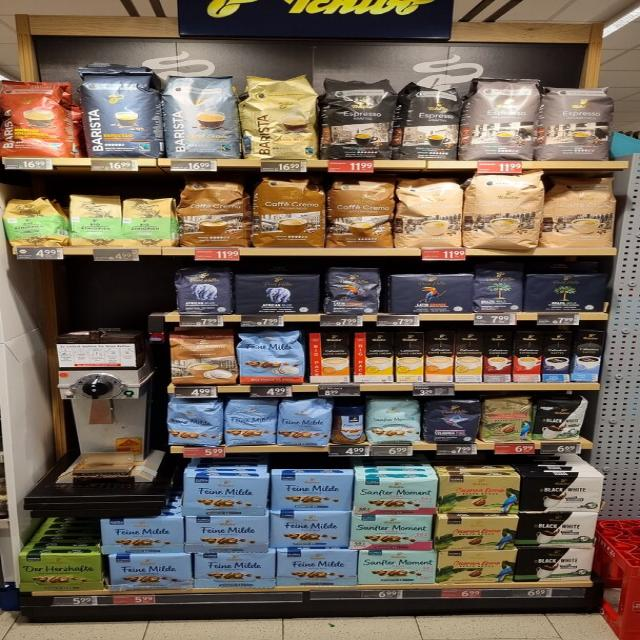AB Bohne: (176, 268, 232, 315)
AB Gemahlen: (234, 273, 322, 314)
Athiopien Bohne: (4, 198, 62, 246)
Athiopien Gemahlen: (70, 194, 122, 247), (123, 196, 174, 248)
BM Bohne: (475, 266, 524, 313)
BM Gemahlen: (527, 272, 607, 312)
BW Bohne: (536, 396, 588, 441)
BW Gemahlen: (522, 474, 604, 512), (518, 512, 598, 547), (519, 547, 593, 581)
Barista CC: (165, 72, 240, 158), (243, 74, 318, 160)
Barista Espresso: (77, 69, 163, 157)
Barista Kolumbien: (0, 78, 79, 158)
C Fino Bohne: (426, 398, 479, 442)
CC Mild: (466, 172, 546, 250), (544, 177, 618, 248), (394, 177, 463, 249)
CC Vollmundig: (169, 331, 238, 386)
CC Vollmundig 36 Pads: (252, 176, 324, 248), (176, 179, 248, 248), (327, 179, 392, 247)
Colombia BB Bohne: (438, 474, 520, 515), (437, 516, 519, 550), (436, 550, 517, 582), (484, 396, 534, 442)
Espresso Aromatisch: (544, 83, 616, 162)
Espresso Kraftig: (319, 75, 396, 161), (401, 79, 461, 160)
Espresso M Art: (464, 75, 540, 160)
FM 36 Pads: (234, 332, 307, 384)
FM Bohne: (278, 397, 330, 447), (165, 401, 222, 446), (225, 397, 276, 447)
FM Gemahlen: (182, 474, 270, 516), (272, 473, 354, 511), (110, 554, 194, 591), (185, 516, 269, 552), (195, 552, 276, 589), (278, 549, 358, 586), (270, 511, 350, 548), (100, 518, 183, 553)
FM Instant: (332, 404, 368, 445)
Herzhatfe Mundig: (16, 554, 104, 592)
LG Bohne: (327, 266, 381, 314)
LG Gemahlen: (390, 273, 473, 315)
SM Gemahlen: (350, 513, 432, 550), (357, 477, 438, 514), (361, 550, 437, 582), (368, 398, 421, 443)
Simo CCMild: (356, 332, 394, 382)
Simo CCMild bigpack: (394, 332, 424, 382)
Simo CCVollmundig: (309, 332, 350, 382)
Simo CCVollmundig bigpack: (426, 331, 454, 382)
Simo Decaff: (455, 331, 483, 381)
Simo Es Brazil: (513, 331, 543, 382)
Simo Es Caramel: (484, 330, 512, 382)
Simo Es Kraft: (542, 331, 573, 381)
Simo Es Vanilla: (572, 330, 604, 381)
